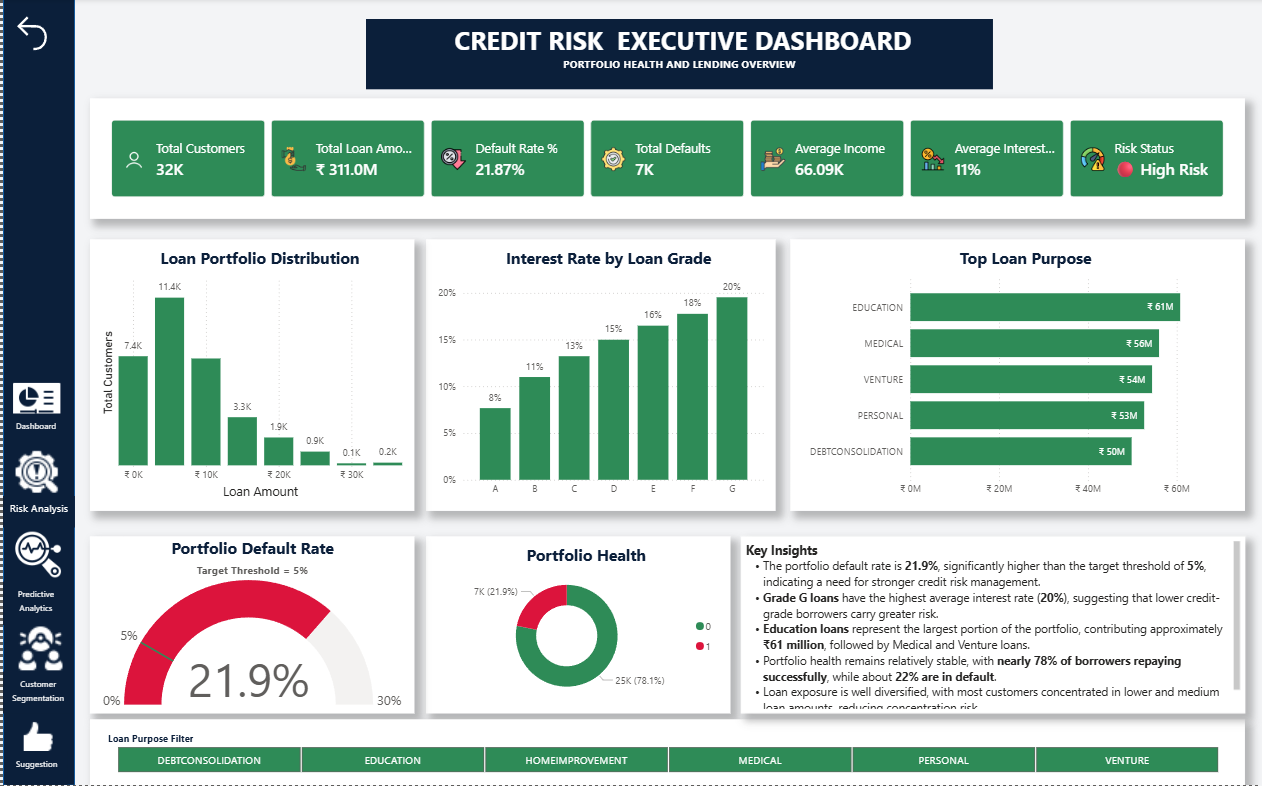

Layout of this report page (visuals, bound fields, positions):
{"tool":"powerbi","page":{"name":"Executive Dashboard","canvas":[1600,1000],"ordinal":1},"visuals":[{"type":"clusteredColumnChart","title":"Interest Rate by Loan Grade","fields":{"Category":["processed_credit_data.loan_grade"],"Y":["Measure.Average Interest Rate"]},"box":[537.5,306.9,444.1,345],"z":0},{"type":"clusteredColumnChart","title":"Loan Portfolio Distribution ","fields":{"Category":["processed_credit_data.loan_amnt (bins)"],"Y":["Measure.Total Customers"]},"box":[110.5,306.9,411.7,345],"z":1000},{"type":"donutChart","title":"Portfolio Health","fields":{"Category":["processed_credit_data.loan_status"],"Y":["Measure.Total Customers"]},"box":[537.5,684.3,386.9,224.9],"z":2000},{"type":"textbox","box":[461.3,26.7,796.7,89.6],"z":3000},{"type":"shape","box":[0,0,91.5,1000.7],"z":4000},{"type":"cardVisual","fields":{"Data":["Table.Total Customers","Table.Average Loan Amount","Table.Default Rate %","Table.Total Defaults","Measure.Average Income","Measure.Average Interest Rate","Measure.Risk Status"]},"box":[110.5,127.7,1467.6,152.5],"z":5000},{"type":"gauge","title":"Portfolio Default Rate ","fields":{"Y":["Table.Default Rate %"]},"box":[110.5,684.3,411.7,224.9],"z":6000},{"type":"barChart","title":"Top Loan Purpose","fields":{"Category":["processed_credit_data.loan_intent"],"Y":["Measure.Total Loan Amount"]},"box":[1000.7,306.9,577.5,345],"z":7000},{"type":"slicer","fields":{"Values":["processed_credit_data.loan_intent"]},"box":[110.5,916.8,1467.6,83.9],"z":8000},{"type":"textbox","box":[937.8,684.3,640.4,224.9],"z":9000},{"type":"actionButton","box":[9.5,17.2,80.1,55.3],"z":10000},{"type":"image","box":[9.5,480.3,66.7,62.9],"z":11000},{"type":"image","box":[9.5,571.8,66.7,61],"z":12000},{"type":"image","box":[5.7,672.8,78.1,68.6],"z":13000},{"type":"image","box":[5.7,916.8,78.1,49.6],"z":14000},{"type":"image","box":[11.4,796.7,72.4,59.1],"z":15000},{"type":"textbox","box":[11.4,528,78.1,28.6],"z":16000},{"type":"textbox","box":[0,632.8,91.5,40],"z":17000},{"type":"textbox","box":[0,741.4,83.9,55.3],"z":18000},{"type":"textbox","box":[0,855.8,89.6,53.4],"z":19000},{"type":"textbox","box":[3.8,956.8,78.1,43.8],"z":20000}]}

Visuals, with their boxes on the page's 1600x1000 design canvas (x1, y1, x2, y2). These are canvas units, not pixel positions in the 1262x786 screenshot, which may show the page scaled, cropped or inside an application window:
"Interest Rate by Loan Grade" clusteredColumnChart: {"left": 538, "top": 307, "right": 982, "bottom": 652}
"Loan Portfolio Distribution " clusteredColumnChart: {"left": 110, "top": 307, "right": 522, "bottom": 652}
"Portfolio Health" donutChart: {"left": 538, "top": 684, "right": 924, "bottom": 909}
textbox: {"left": 461, "top": 27, "right": 1258, "bottom": 116}
shape: {"left": 0, "top": 0, "right": 92, "bottom": 1001}
cardVisual - Table.Total Customers x Table.Average Loan Amount: {"left": 110, "top": 128, "right": 1578, "bottom": 280}
"Portfolio Default Rate " gauge: {"left": 110, "top": 684, "right": 522, "bottom": 909}
"Top Loan Purpose" barChart: {"left": 1001, "top": 307, "right": 1578, "bottom": 652}
slicer - processed_credit_data.loan_intent: {"left": 110, "top": 917, "right": 1578, "bottom": 1001}
textbox: {"left": 938, "top": 684, "right": 1578, "bottom": 909}
actionButton: {"left": 10, "top": 17, "right": 90, "bottom": 72}
image: {"left": 10, "top": 480, "right": 76, "bottom": 543}
image: {"left": 10, "top": 572, "right": 76, "bottom": 633}
image: {"left": 6, "top": 673, "right": 84, "bottom": 741}
image: {"left": 6, "top": 917, "right": 84, "bottom": 966}
image: {"left": 11, "top": 797, "right": 84, "bottom": 856}
textbox: {"left": 11, "top": 528, "right": 90, "bottom": 557}
textbox: {"left": 0, "top": 633, "right": 92, "bottom": 673}
textbox: {"left": 0, "top": 741, "right": 84, "bottom": 797}
textbox: {"left": 0, "top": 856, "right": 90, "bottom": 909}
textbox: {"left": 4, "top": 957, "right": 82, "bottom": 1001}
